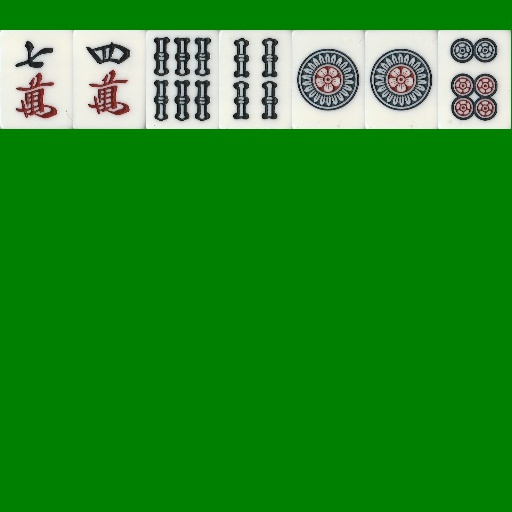1p: (292, 30, 365, 129), (365, 30, 438, 129)
4m: (73, 30, 146, 129)
4s: (219, 30, 292, 129)
6p: (438, 30, 511, 129)
6s: (146, 30, 219, 129)
7m: (0, 30, 73, 129)
